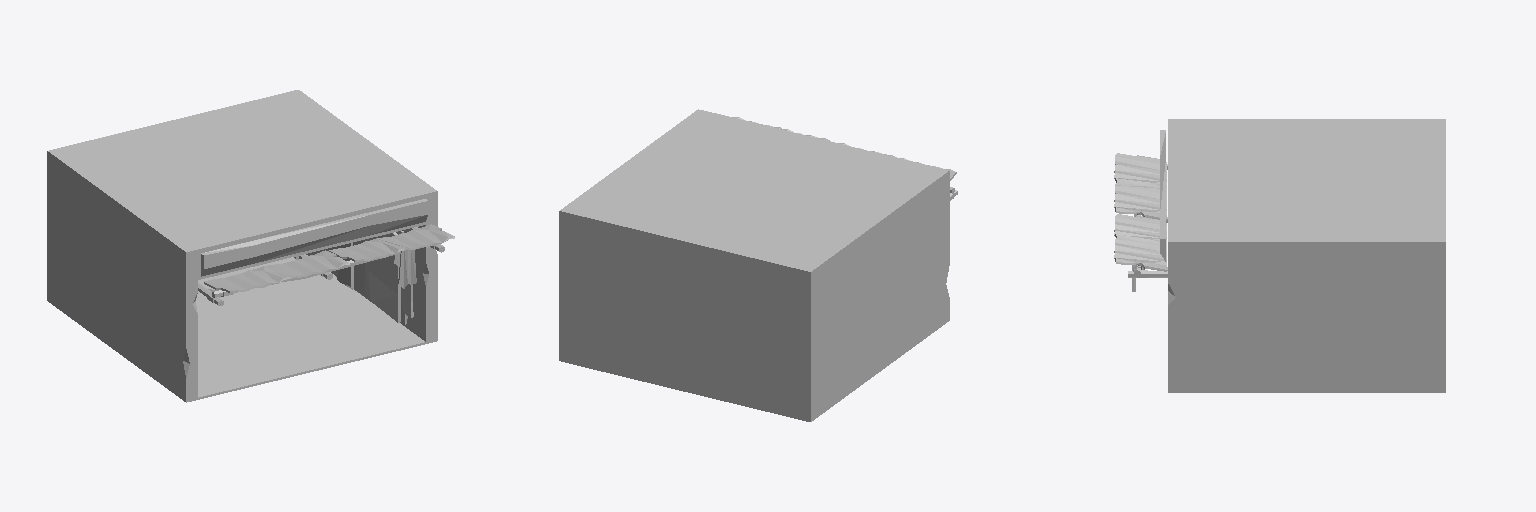
Rendered from SciFi_Building_Small01.obj.
3 views of the same model, side by side, from view 1: azimuth 30°, elevation 25°; view 2: azimuth 150°, elevation 25°; view 3: azimuth 270°, elevation 25° (orthographic).
Visible parts, largest first — view 1: SM_Bld_Shop_Open_01; view 2: SM_Bld_Shop_Open_01; view 3: SM_Bld_Shop_Open_01.
Boxes of the visible parts, box(x1,y1,x2,y2) form: SM_Bld_Shop_Open_01: box(47, 90, 454, 402); SM_Bld_Shop_Open_01: box(559, 109, 957, 421); SM_Bld_Shop_Open_01: box(1114, 119, 1445, 392).
Bounding box in the file's own units: 1.75 × 1 × 2.